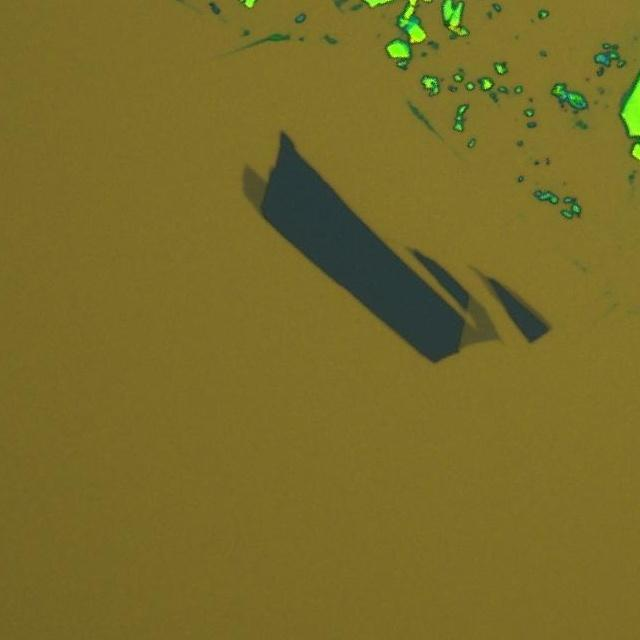monolayer-eWW4: (458, 294, 502, 349), (238, 160, 266, 211)
